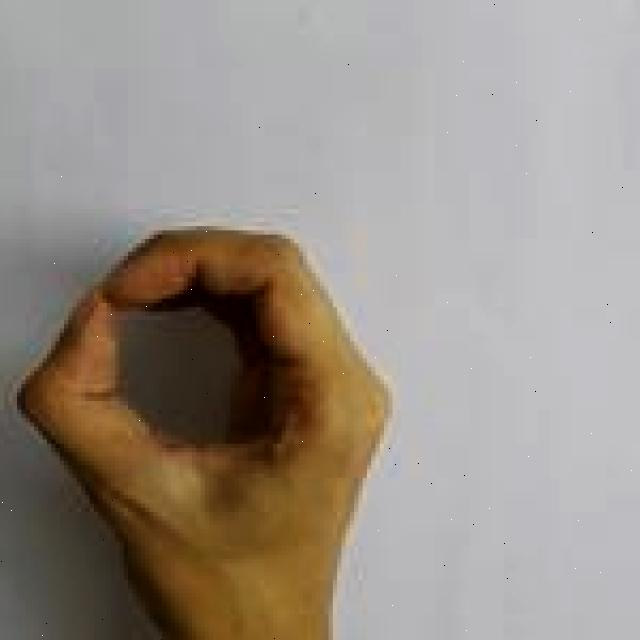O: (10, 218, 399, 640)
